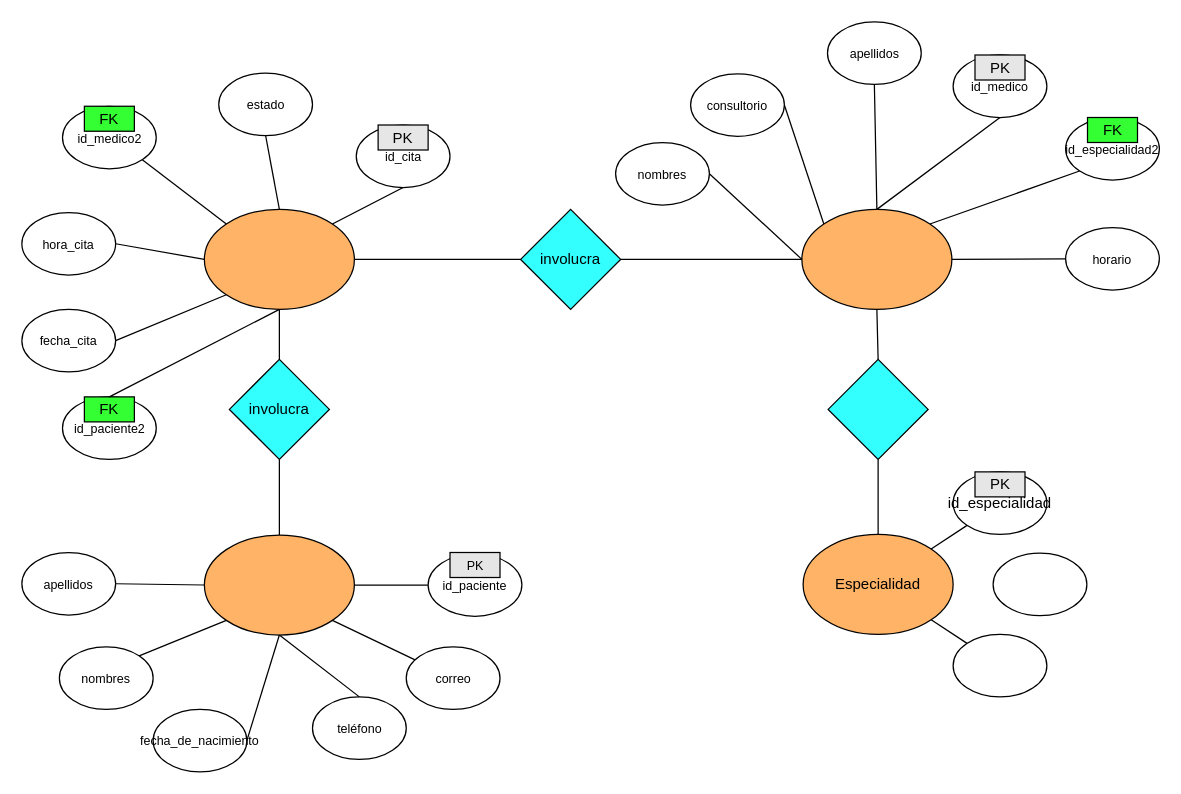
The diagram is 1181 pixels wide and 794 high, and some of its shapes have lost their labels. The centre of each missing label's shape, as x and y in pixels:
"Cita" belongs at point (278, 258).
"descripcion" belongs at point (999, 665).
"Medico" belongs at point (876, 258).
"nombre" belongs at point (1039, 584).
"Paciente" belongs at point (278, 584).
"pertenece" belongs at point (877, 408).
